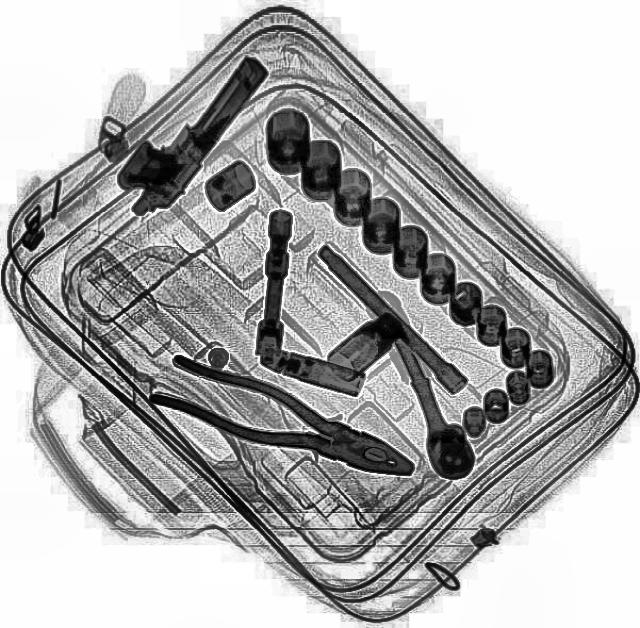Gun: (96, 38, 278, 228)
Pliers: (145, 345, 425, 497)
